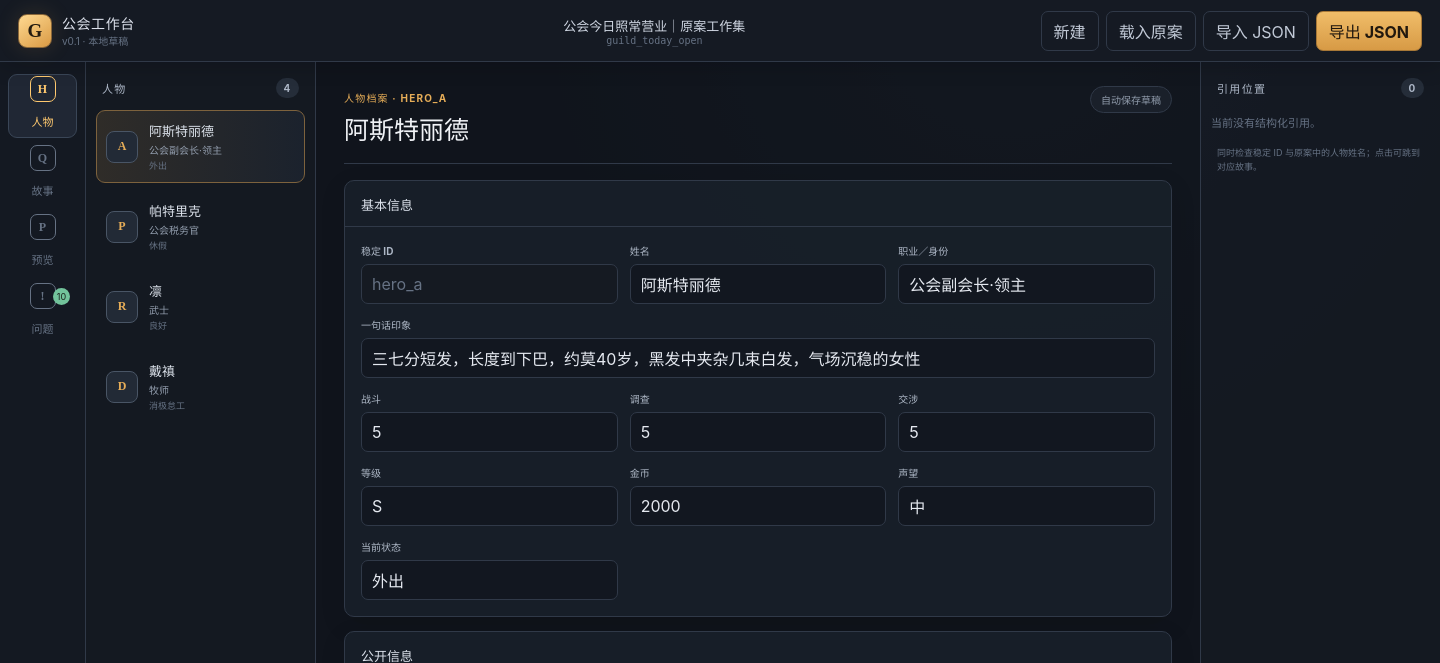
Test: workbench interaction › shows source gaps separately from blocking errors
What coordinates should you click on to do the following:
click the button "! 问题 10"
I would click on:
 (42, 313)
Its box is [8, 281, 77, 345].
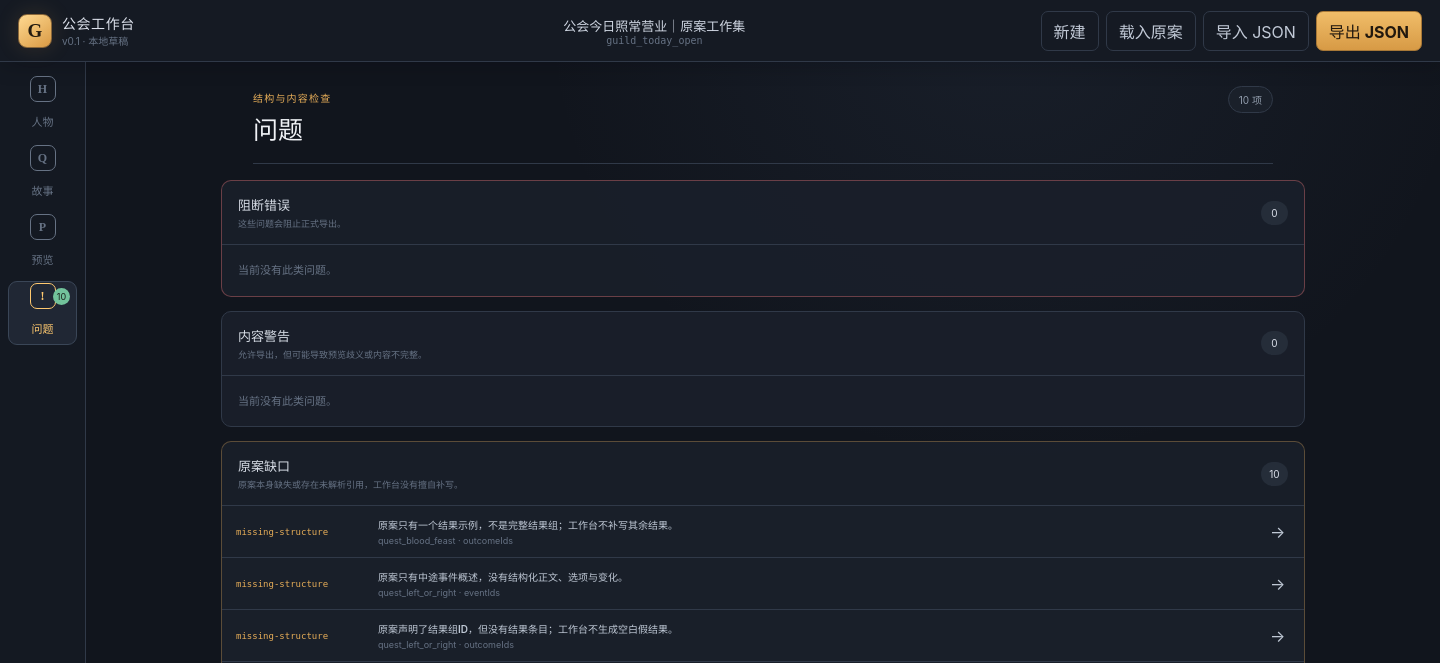
Expected: the heading "阻断错误" is shown, [238, 197, 290, 213]
Expected: the heading "原案缺口" is shown, [238, 458, 290, 474]
Expected: the text "原案只有一个结果示例，不是完整结果组；工作台不补写其余结果。" is shown, [378, 519, 678, 531]
